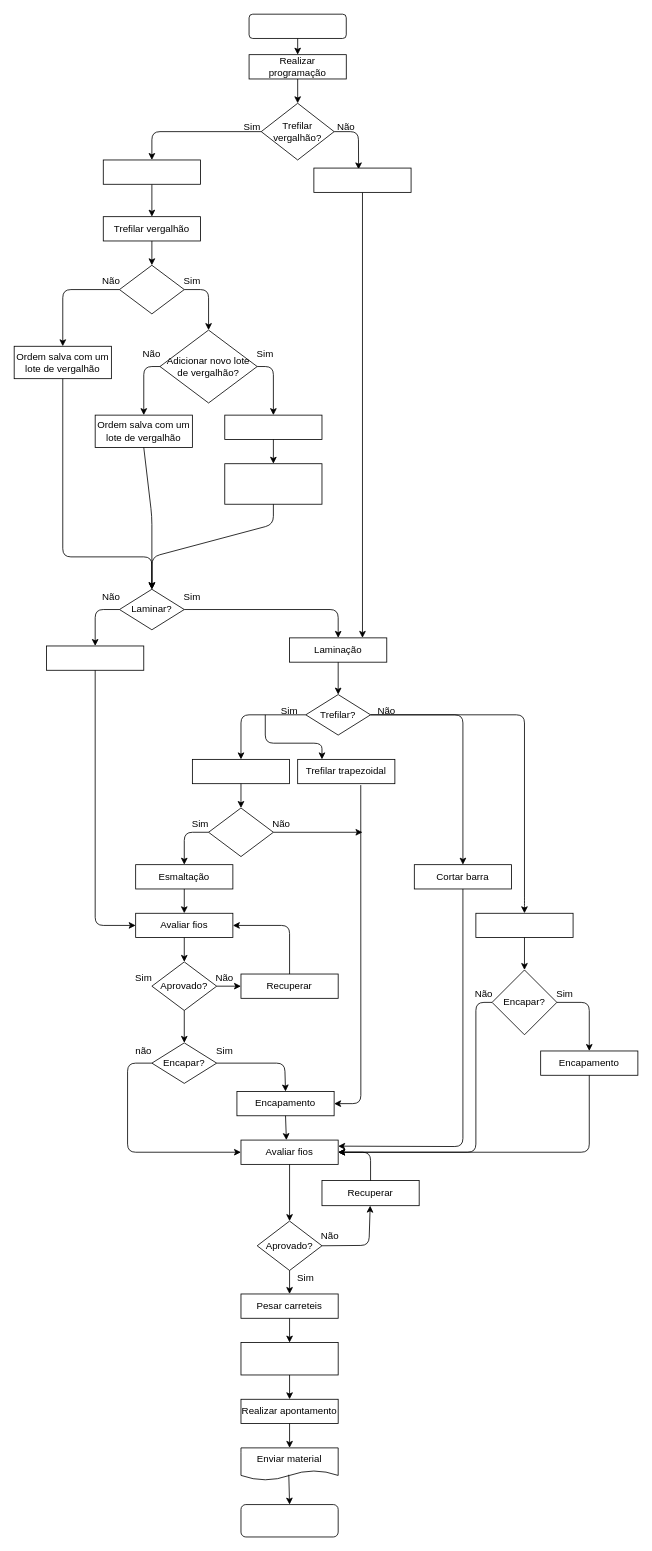
This 652x1551 diagram has some shape labels left out. The shapes that lost their labels are listed below. From the top down, each one's box as (x1, y1, x2, y2) in pixels, then its label:
(248, 13, 346, 38): Receber necessidade
(102, 159, 200, 184): Apontar lote atual do vergalhão no GCF
(313, 167, 411, 192): Apontar lote do vergalhão no GCF
(119, 264, 184, 314): Máquina parou?
(224, 414, 322, 439): Apontar novo lote de vergalhão no GCF
(224, 463, 322, 504): Ordem salva com mais de um lote de vergalhão
(46, 645, 144, 670): Trefilar Circular
(192, 759, 290, 784): Trefilar retangular
(208, 807, 273, 857): Esmaltar?
(475, 912, 573, 938): Recozer fios
(240, 1342, 338, 1375): Acondicionar carreteis
(240, 1504, 338, 1537): Arquivar registro
